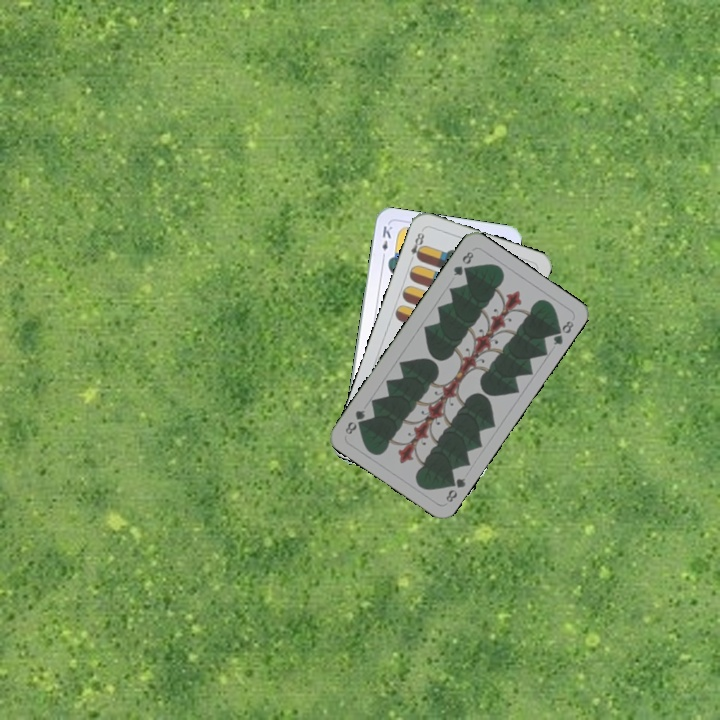E8: (406, 226, 427, 265)
EK: (378, 222, 395, 262)
G8: (449, 247, 476, 278), (442, 473, 468, 505)
